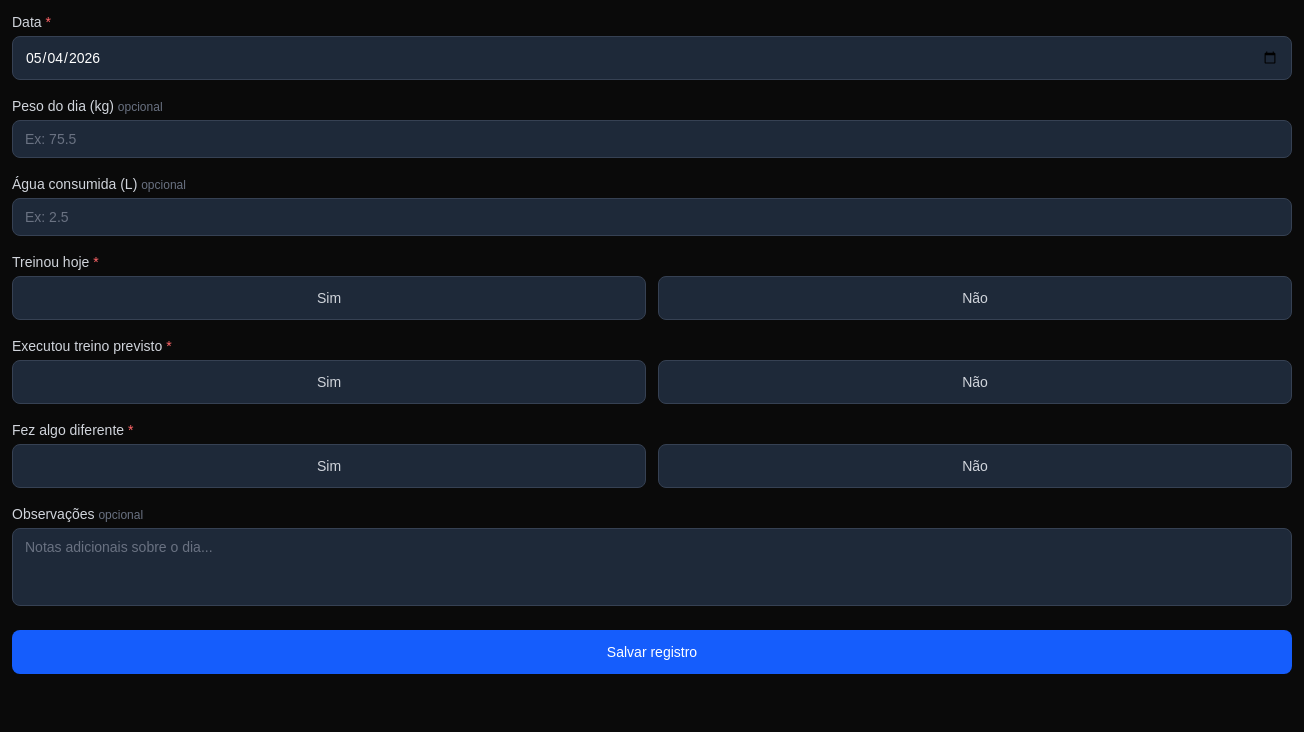
Test case: DailyLogForm › shows the description field when "Fez algo diferente" is set to Sim
The "Fez algo diferente" toggle is the third boolean toggle (trained, followedPlan, didSomethingDifferent)
Click the button "Sim" below "Fez algo diferente". click: (329, 466)
box: 12,444 -> 646,488
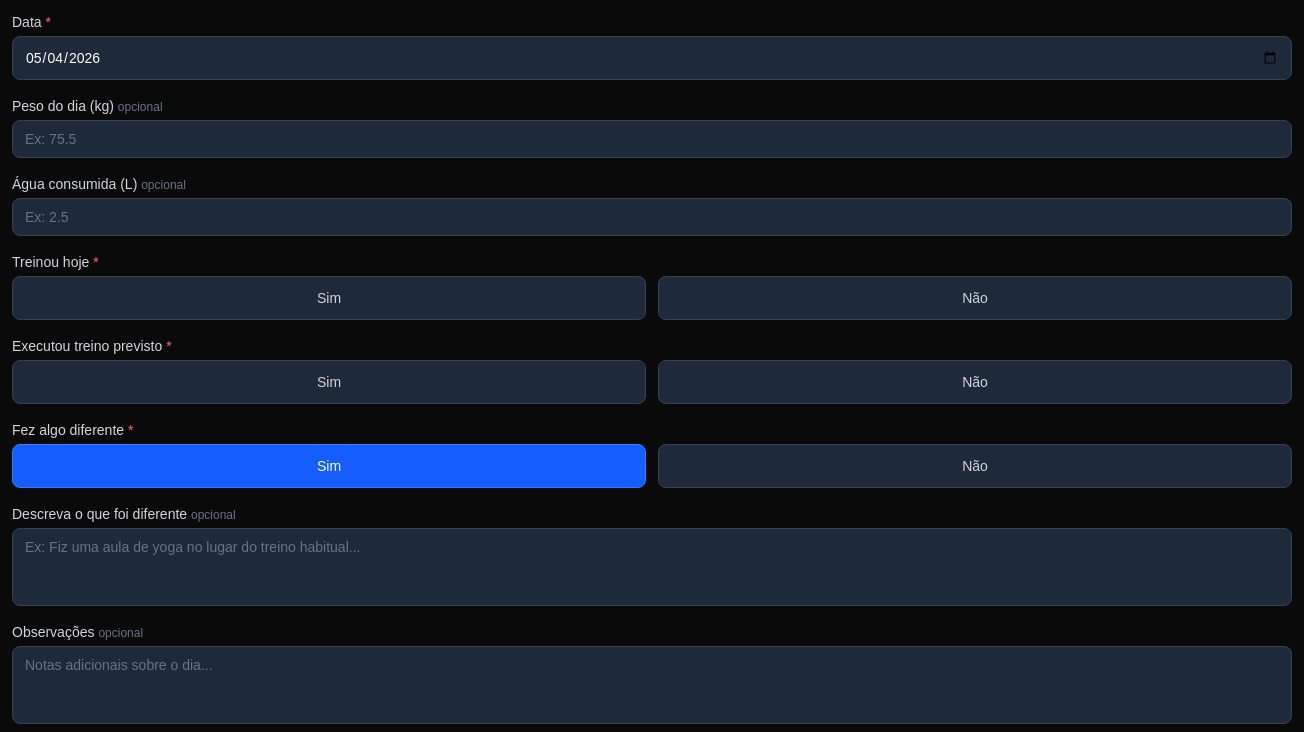
expect the text box labelled "Descreva o que foi diferente opcional" is shown: met, box 12,528 -> 1292,606
